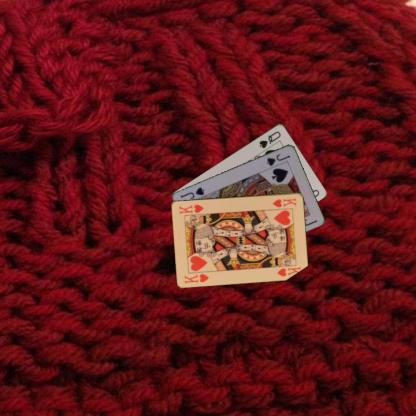Js: (264, 152, 292, 168)
Kh: (182, 271, 210, 285), (270, 195, 298, 208)
Qs: (256, 128, 282, 149)
